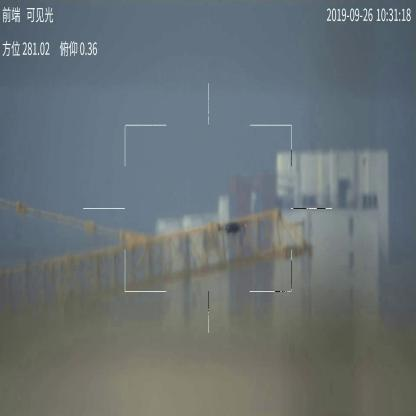uav: (216, 221, 253, 235)
